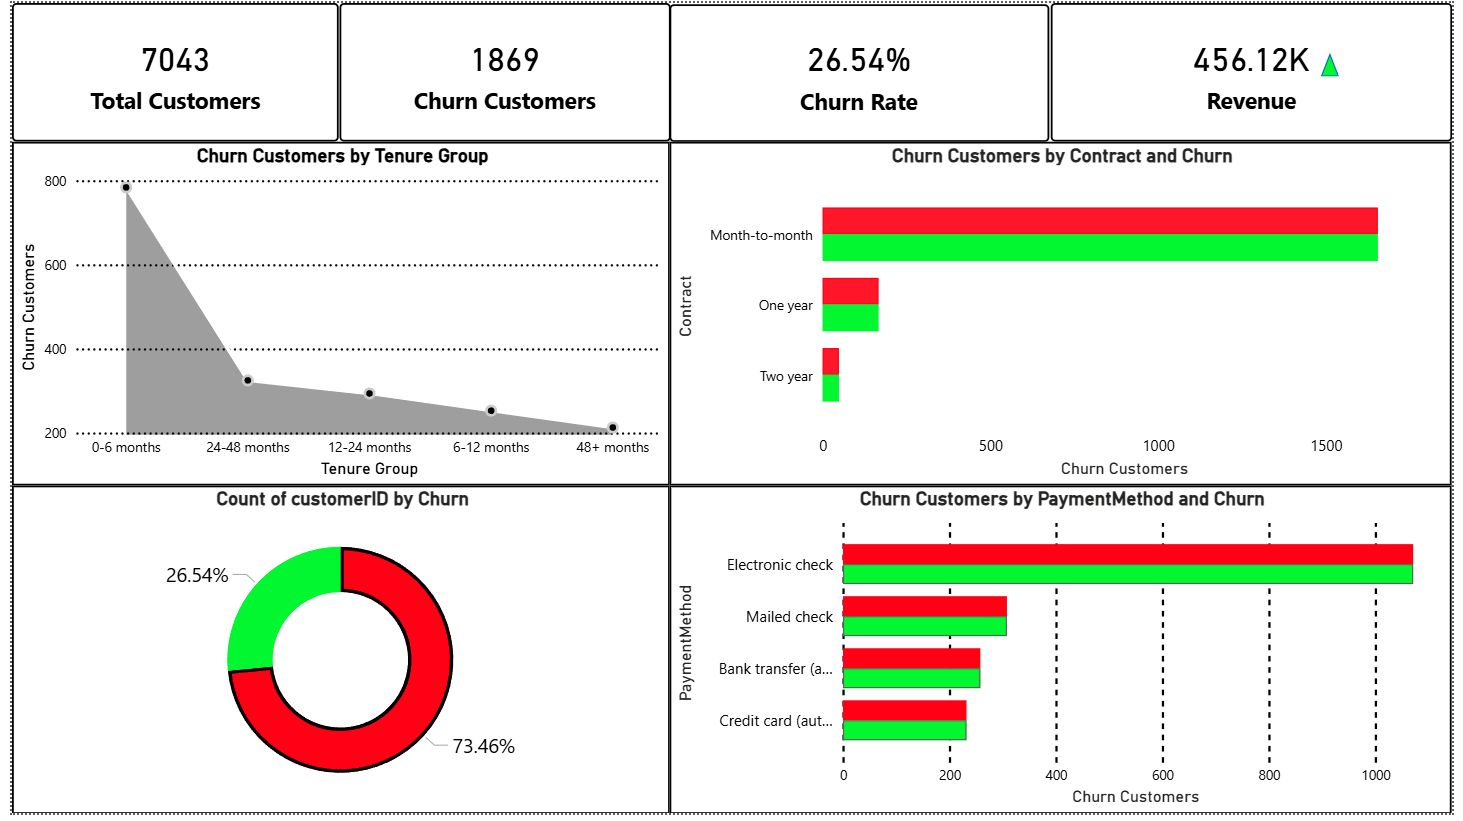

What the dashboard file says about the page in this screenshot:
{"tool":"powerbi","page":{"name":"EXECUTIVE DASHBOARD","canvas":[1280,720],"ordinal":0},"visuals":[{"type":"card","fields":{"Values":["Telco-Customer-Churn.Total Customers"]},"box":[0,0,290.7,123.3],"z":0},{"type":"card","fields":{"Values":["Telco-Customer-Churn.Churn Customers"]},"box":[290.7,0,294.2,123.3],"z":1000},{"type":"card","fields":{"Values":["Telco-Customer-Churn.Churn Rate"]},"box":[584.9,1.2,337.2,122.1],"z":2000},{"type":"card","fields":{"Values":["Telco-Customer-Churn.Revenue"]},"box":[923.3,0,357,123.3],"z":3000},{"type":"lineChart","fields":{"Category":["Telco-Customer-Churn.Tenure Group"],"Y":["Telco-Customer-Churn.Churn Customers"]},"box":[0,123.3,584.9,305.8],"z":4000},{"type":"donutChart","fields":{"Category":["Telco-Customer-Churn.Churn"],"Y":["CountNonNull(Telco-Customer-Churn.customerID)"]},"box":[0,429.1,584.9,291.9],"z":5000},{"type":"clusteredBarChart","fields":{"Y":["Telco-Customer-Churn.Churn Customers"],"Category":["Telco-Customer-Churn.Contract"],"Series":["Telco-Customer-Churn.Churn"]},"box":[584.9,123.3,695.4,305.8],"z":6000},{"type":"clusteredBarChart","fields":{"Category":["Telco-Customer-Churn.PaymentMethod"],"Y":["Telco-Customer-Churn.Churn Customers"],"Series":["Telco-Customer-Churn.Churn"]},"box":[584.9,429.1,695.4,291.9],"z":7000},{"type":"shape","box":[1162.8,44.2,16.3,20.9],"z":8000}]}

Visuals, with their boxes in screenshot pixels (x1, y1, x2, y2), scaled from the page's 1280x720 canvas onto the 1463x821 screenshot:
card - Telco-Customer-Churn.Total Customers: box(0, 0, 332, 141)
card - Telco-Customer-Churn.Churn Customers: box(332, 0, 669, 141)
card - Telco-Customer-Churn.Churn Rate: box(669, 1, 1054, 141)
card - Telco-Customer-Churn.Revenue: box(1055, 0, 1462, 141)
lineChart - Telco-Customer-Churn.Tenure Group x Telco-Customer-Churn.Churn Customers: box(0, 141, 669, 489)
donutChart - Telco-Customer-Churn.Churn x CountNonNull(Telco-Customer-Churn.customerID): box(0, 489, 669, 820)
clusteredBarChart - Telco-Customer-Churn.Churn Customers x Telco-Customer-Churn.Contract: box(669, 141, 1462, 489)
clusteredBarChart - Telco-Customer-Churn.PaymentMethod x Telco-Customer-Churn.Churn Customers: box(669, 489, 1462, 820)
shape: box(1329, 50, 1348, 74)
